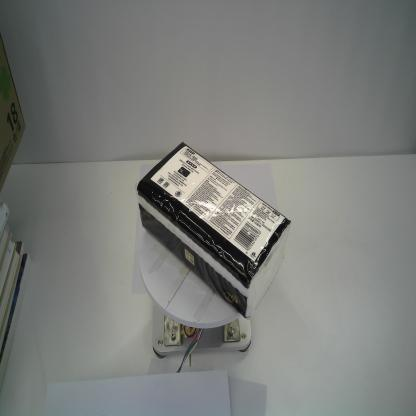Tissue: (135, 140, 292, 323)
